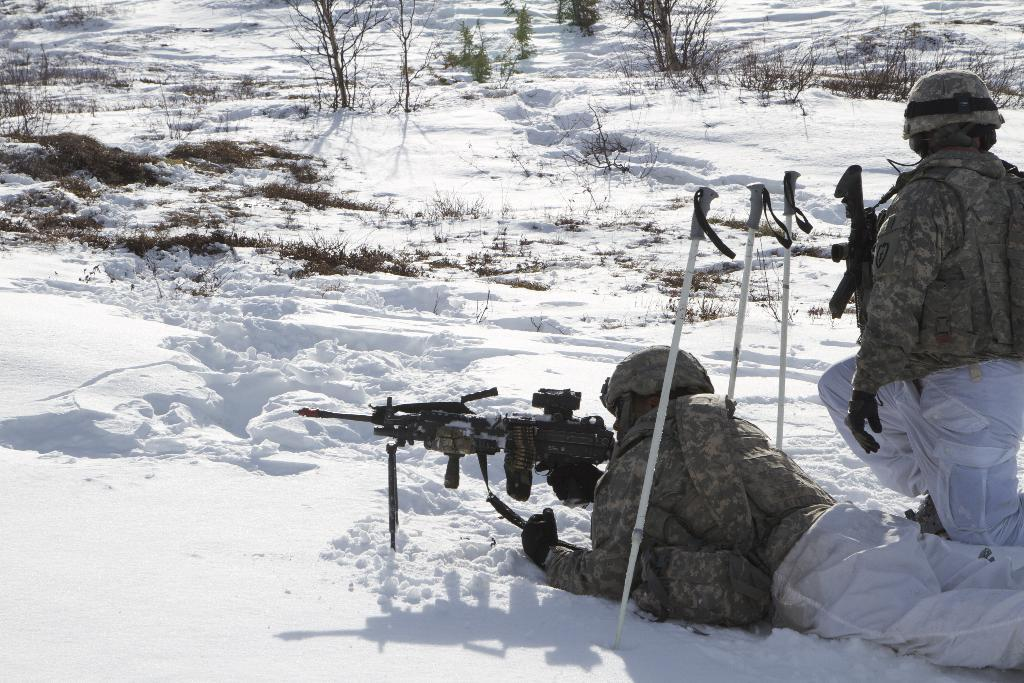Rifle: (291, 385, 614, 549)
